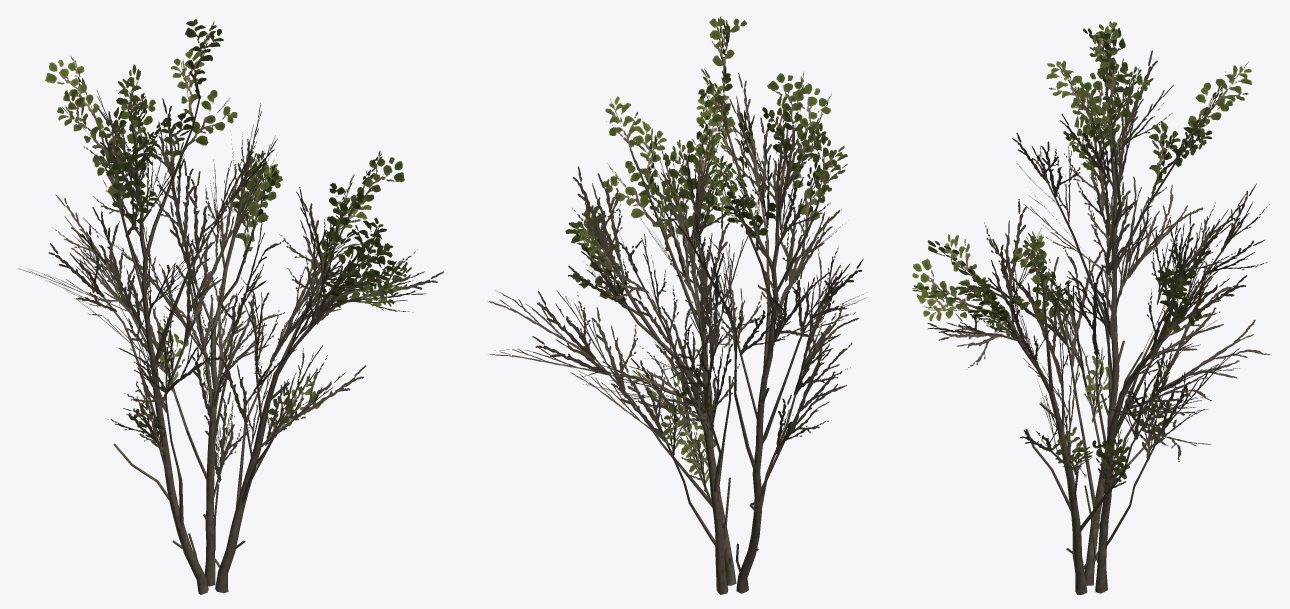
The model's file is SM_BlackAlder_Forest_09_PP_LOD5.gltf.
3 renders of one model, left to right at view 1: azimuth 30°, elevation 25°; view 2: azimuth 150°, elevation 25°; view 3: azimuth 270°, elevation 25°, orthographic. The views are drawn at different scales.
Visible parts, largest first — view 1: SM_BlackAlder_Forest_09_PP; view 2: SM_BlackAlder_Forest_09_PP; view 3: SM_BlackAlder_Forest_09_PP.
Boxes of the visible parts, x1=… form: SM_BlackAlder_Forest_09_PP: x1=18, y1=19, x2=443, y2=594; SM_BlackAlder_Forest_09_PP: x1=488, y1=16, x2=867, y2=594; SM_BlackAlder_Forest_09_PP: x1=912, y1=21, x2=1269, y2=594.
Size of the model in its own units: 3.94 by 6.01 by 3.56.
Materials: 2 (2 with a texture image).
